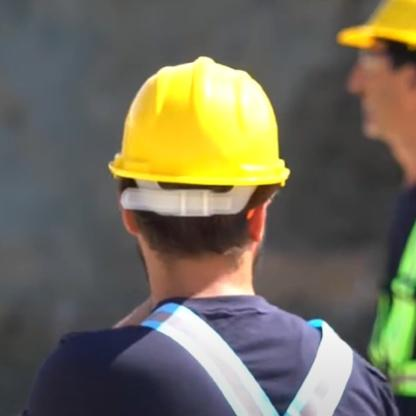helmet: (110, 35, 299, 310)
